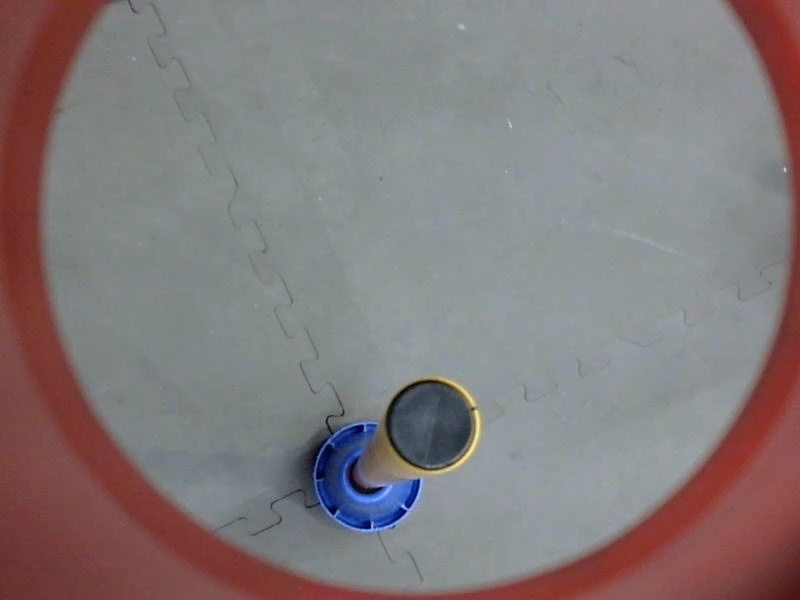tip: (377, 368, 485, 484)
